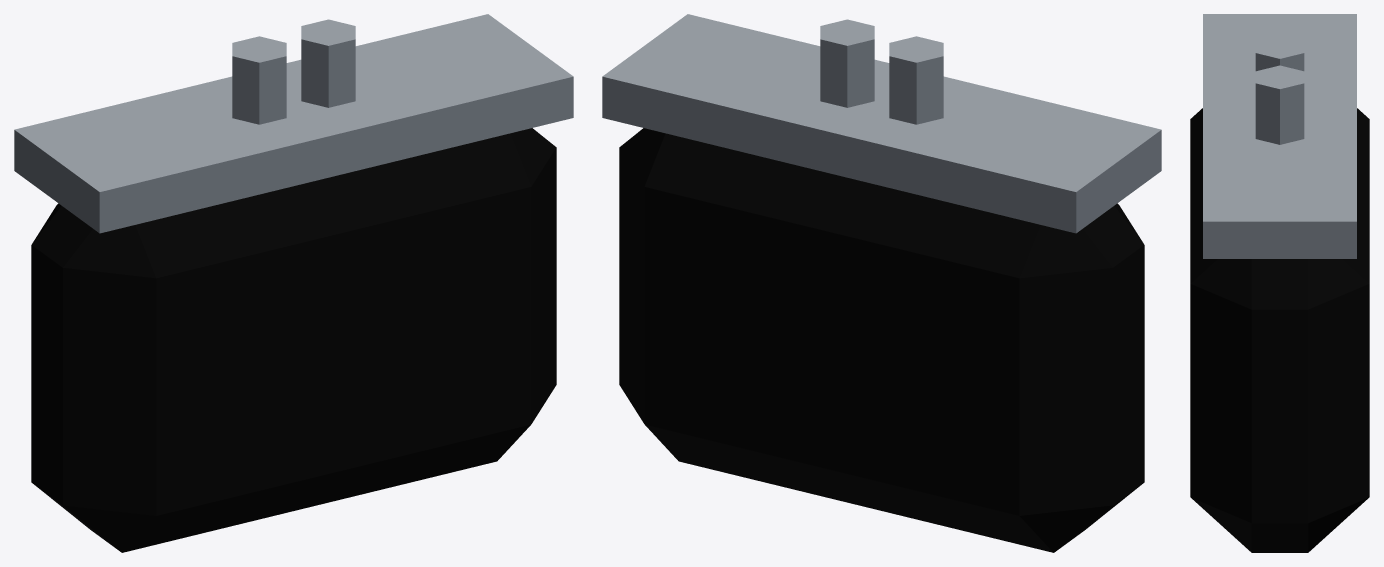
File: Item_coin_purse.fbx
The picture shows the model from 3 angles, left to right: view 1: azimuth 30°, elevation 25°; view 2: azimuth 150°, elevation 25°; view 3: azimuth 270°, elevation 25°; orthographic projection. The views are drawn at different scales.
Parts seen in each view (by area): view 1: Pouch, Clasp; view 2: Pouch, Clasp; view 3: Pouch, Clasp.
Boxes of the visible parts, x1,y1,x2,y2 form: Pouch: (31,128,556,552); Clasp: (14,14,573,233); Pouch: (619,128,1144,552); Clasp: (602,14,1161,233); Pouch: (1190,108,1369,552); Clasp: (1203,14,1356,258).
Size of the model in its own units: 0.135 by 0.1188 by 0.0473.
